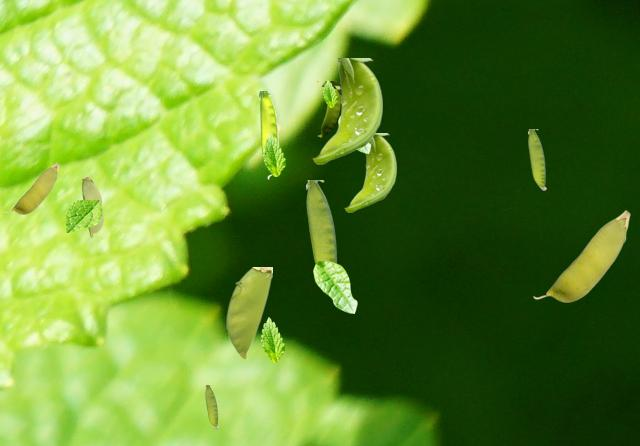pea: (533, 210, 629, 301), (312, 58, 381, 163), (226, 267, 271, 358), (344, 133, 395, 211), (4, 162, 58, 213), (306, 180, 337, 263), (259, 91, 277, 178), (82, 177, 102, 241), (317, 81, 340, 136), (528, 129, 545, 189), (205, 385, 217, 427)
